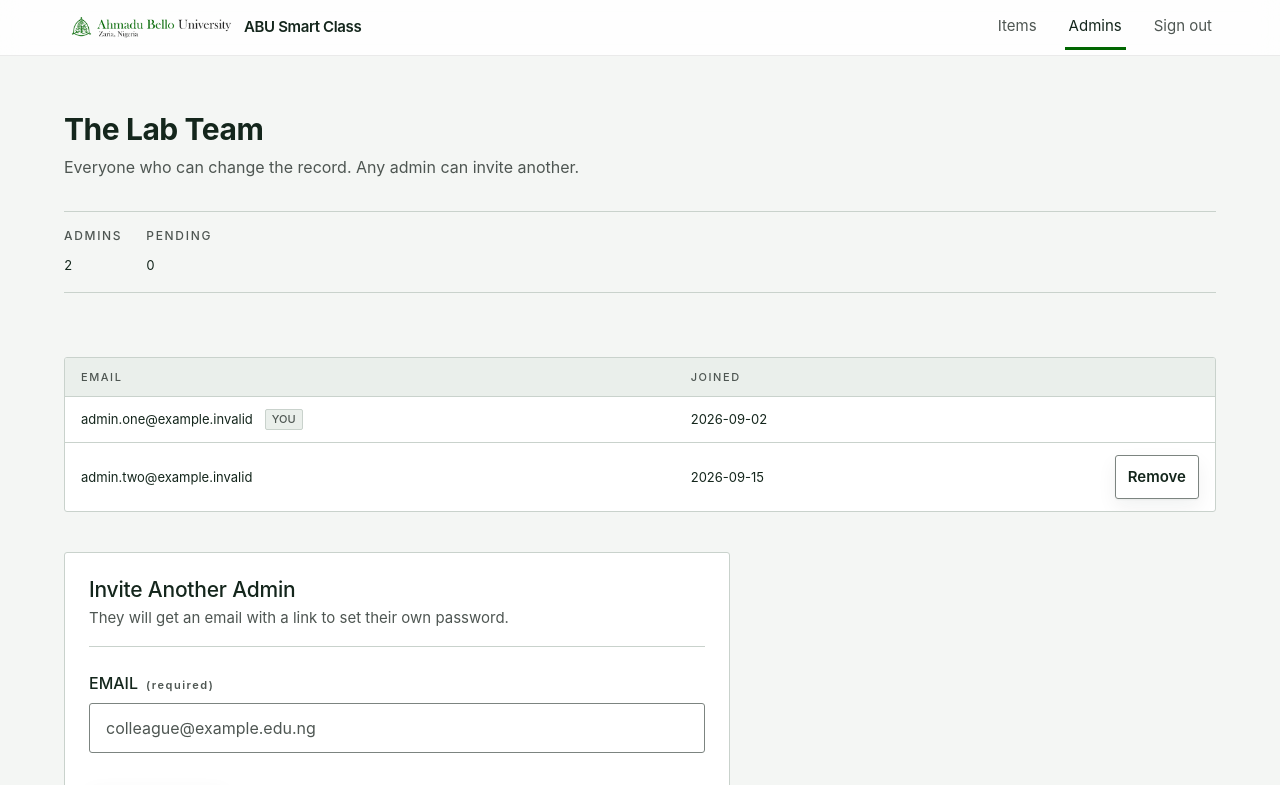
Test: app/admin/admins/page (S-008) › blocks last-admin removal with client-side or server 409 error banner
This screenshot has width=1280, height=785.
Click the button with aria-label "Remove admin.two@example.invalid".
click(1157, 477)  # box 1115,455 -> 1199,499
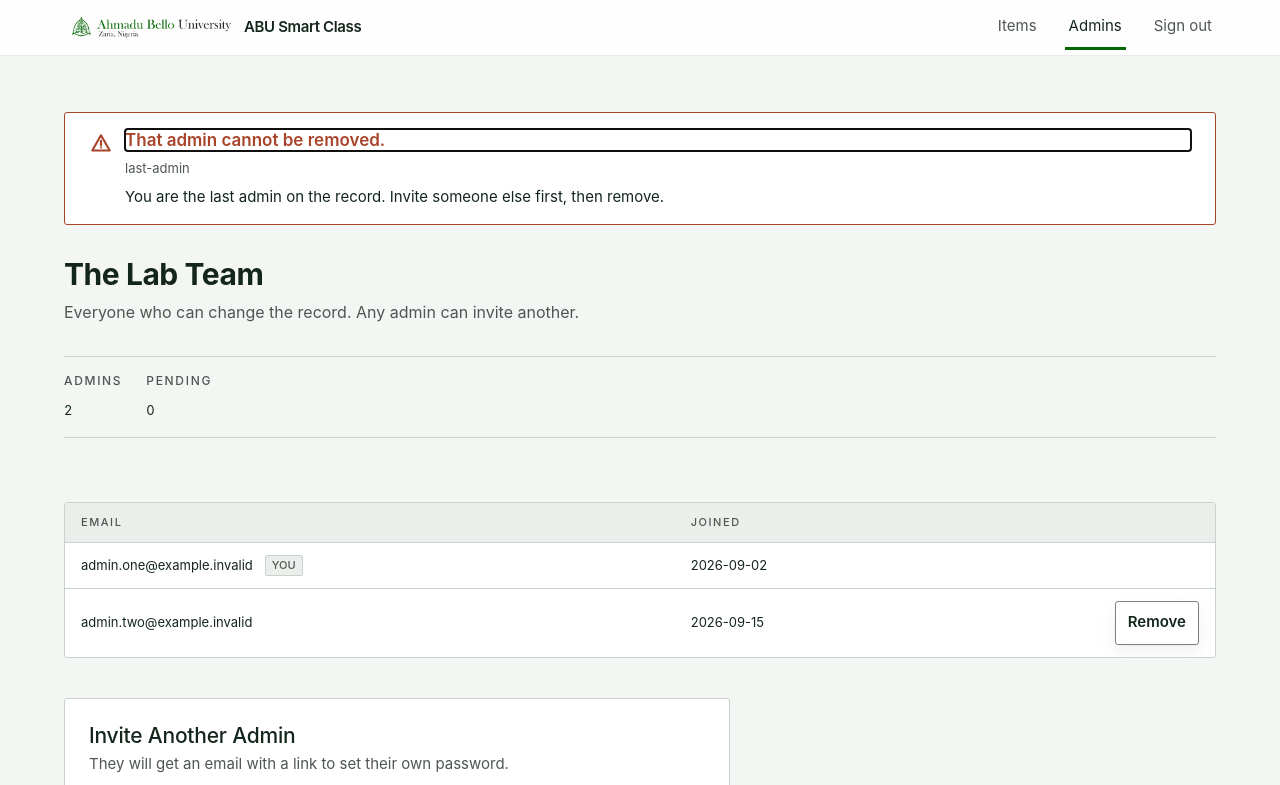
Result: the heading "That admin cannot be removed." is shown at 125,130 -> 385,150
Result: the text "last-admin" is shown at 125,160 -> 190,176
